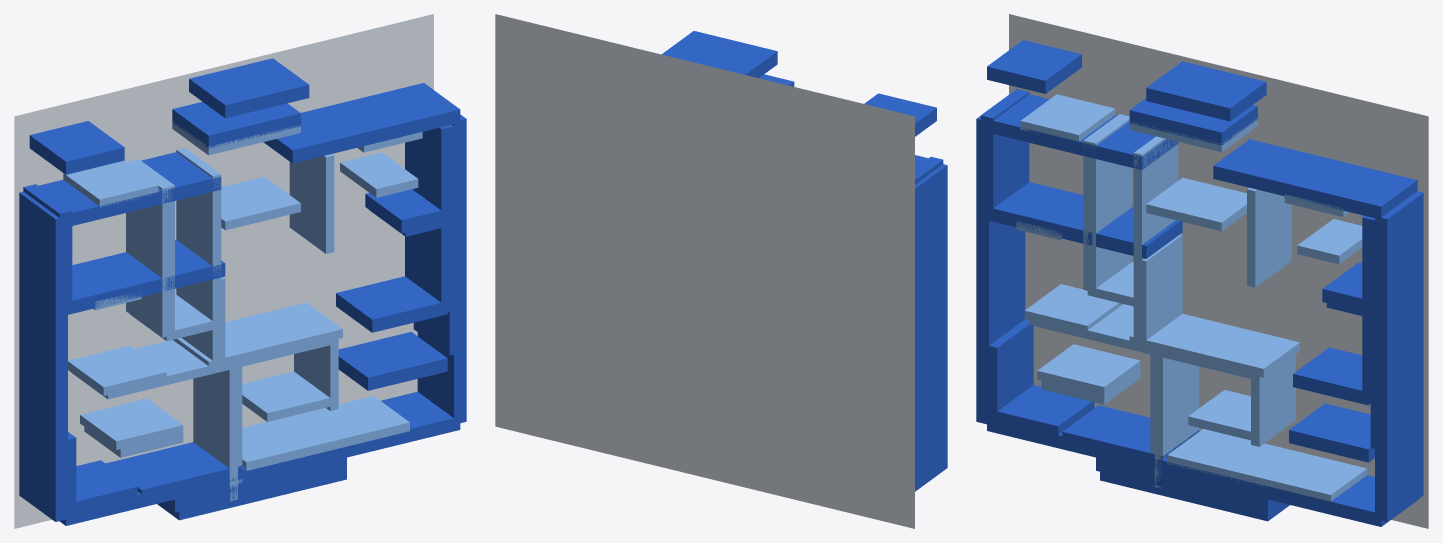
Rendered from fbceb6aa-0396-44b0-92b6-b9ece41a727a.obj.
The picture shows the model from 3 angles, left to right: view 1: azimuth 30°, elevation 25°; view 2: azimuth 150°, elevation 25°; view 3: azimuth 330°, elevation 25°; orthographic projection.
Bounding box in the file's own units: 20 × 18.8 × 3.05.
